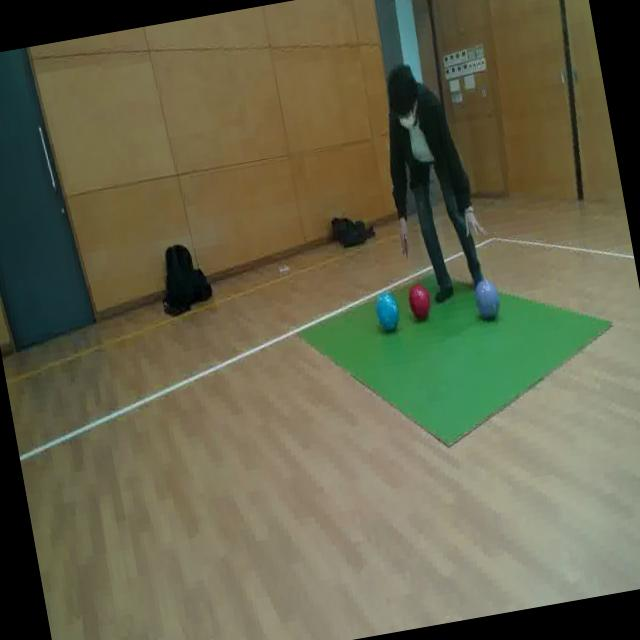blue_ball: (373, 290, 401, 330)
purple_ball: (472, 278, 502, 318)
red_ball: (406, 282, 432, 321)
